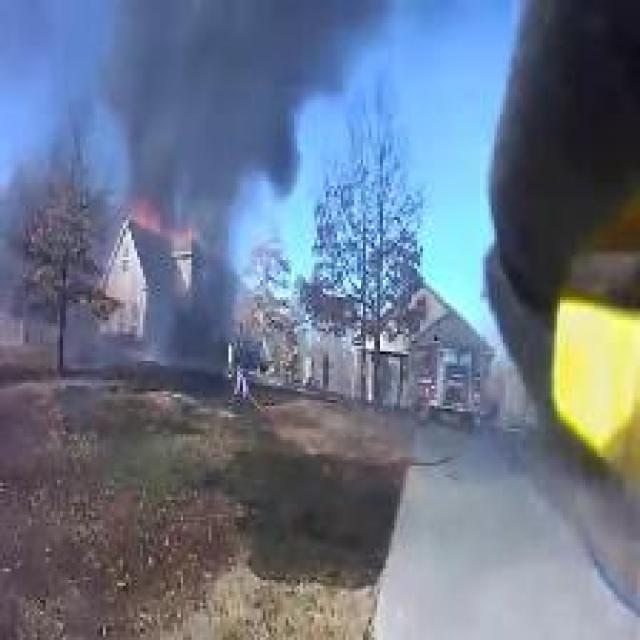other: (546, 298, 634, 446)
smoke: (106, 2, 370, 238)
